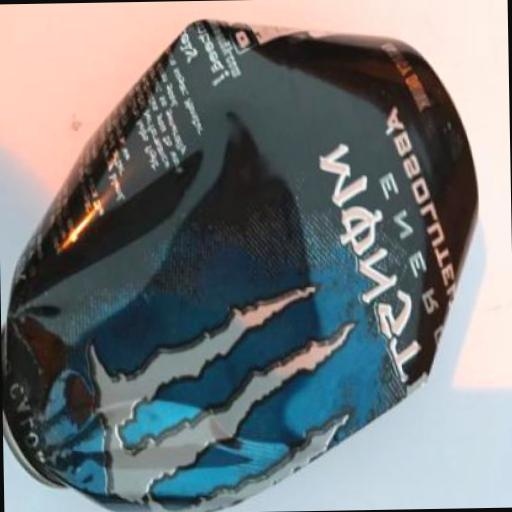metal: (0, 13, 485, 512)
